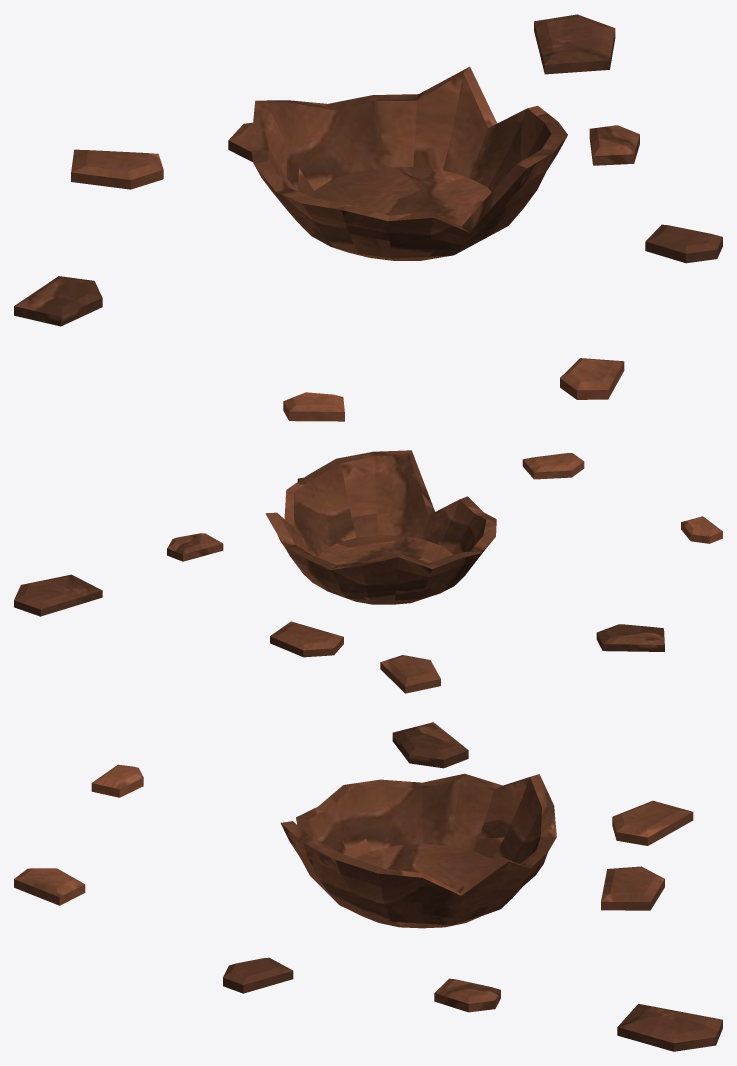
File: junk_urn_broken_a.glb
The picture shows the model from 3 angles, top to bottom: view 1: azimuth 30°, elevation 25°; view 2: azimuth 150°, elevation 25°; view 3: azimuth 270°, elevation 25°; orthographic projection. The views are drawn at different scales.
Parts seen in each view (by area): view 1: model; view 2: model; view 3: model.
Boxes of the visible parts, x1,y1,x2,y2 form: model: [14, 14, 722, 421]; model: [14, 450, 722, 693]; model: [14, 722, 722, 1051].
Size of the model in its own units: 0.7275 by 0.0998 by 0.6788.
3 materials, 3 textured.
